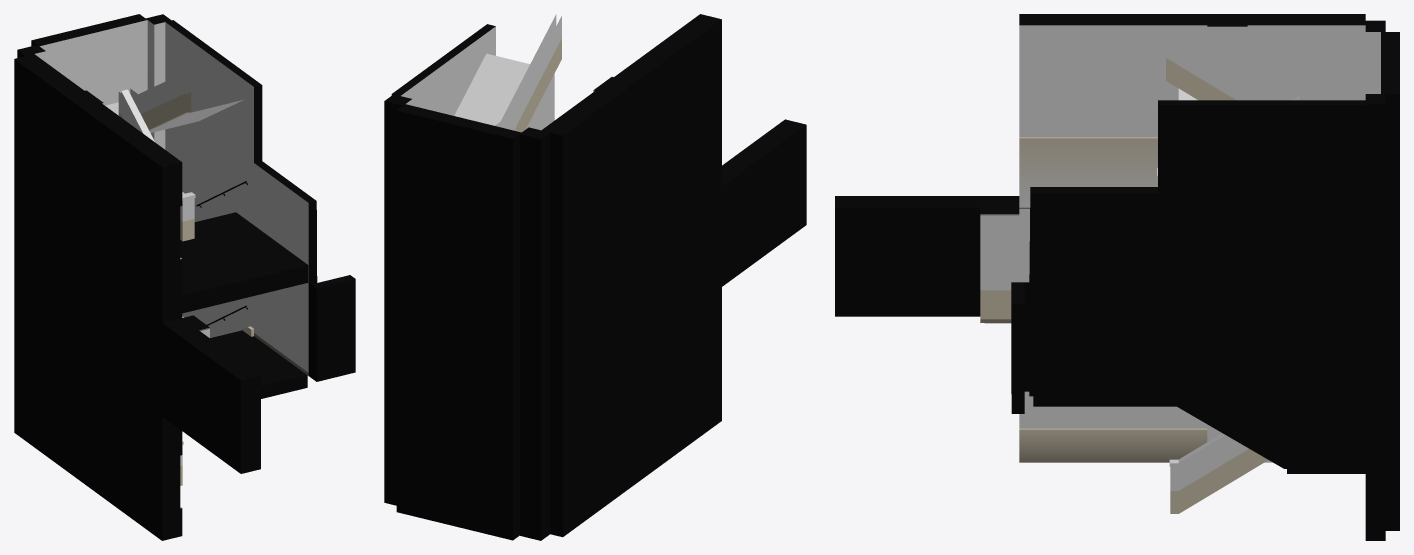
The model's file is b01_classroom_stairs_collision_10.fbx.
The picture shows the model from 3 angles, left to right: view 1: azimuth 30°, elevation 25°; view 2: azimuth 150°, elevation 25°; view 3: azimuth 270°, elevation 25°; orthographic projection. The views are drawn at different scales.
Visible parts, largest first — view 1: b01_classroom_stairs_collsion_10; view 2: b01_classroom_stairs_collsion_10; view 3: b01_classroom_stairs_collsion_10.
Boxes of the visible parts, x1=… form: b01_classroom_stairs_collsion_10: x1=14, y1=14, x2=355, y2=540; b01_classroom_stairs_collsion_10: x1=384, y1=14, x2=806, y2=540; b01_classroom_stairs_collsion_10: x1=835, y1=14, x2=1399, y2=540.
Bounding box in the file's own units: 639 × 1331 × 1405.
